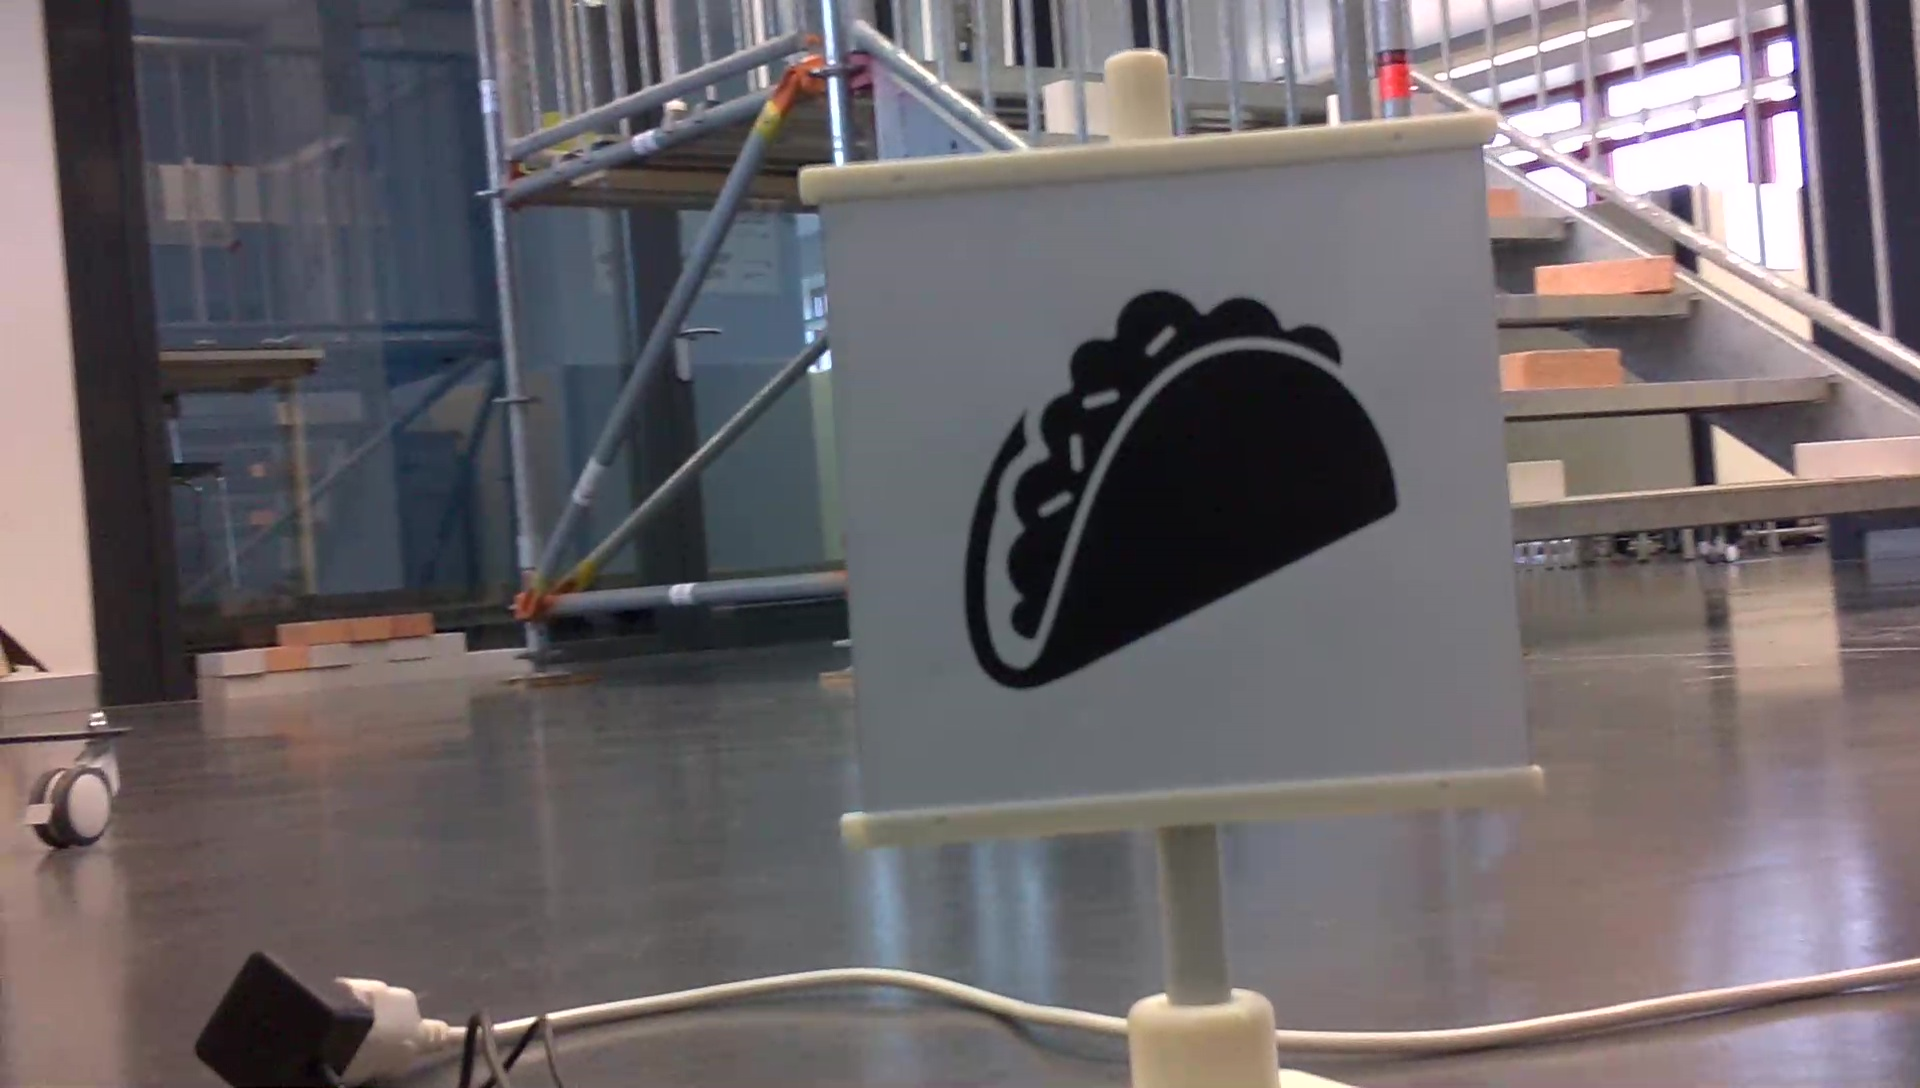brick: (1795, 433, 1913, 473), (1538, 256, 1673, 291), (1502, 351, 1615, 393), (1510, 458, 1563, 502)
taco: (949, 276, 1418, 702)
